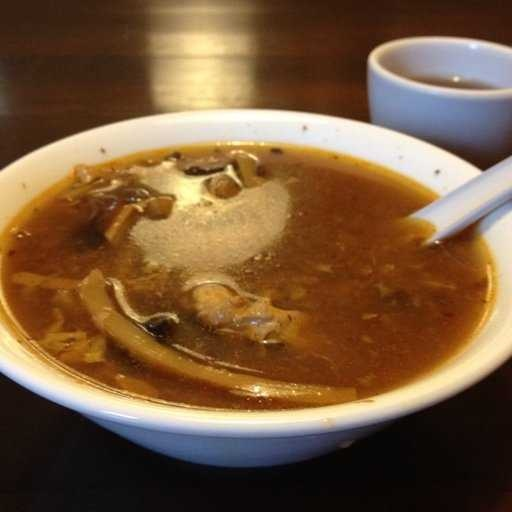soup: (13, 142, 474, 411)
